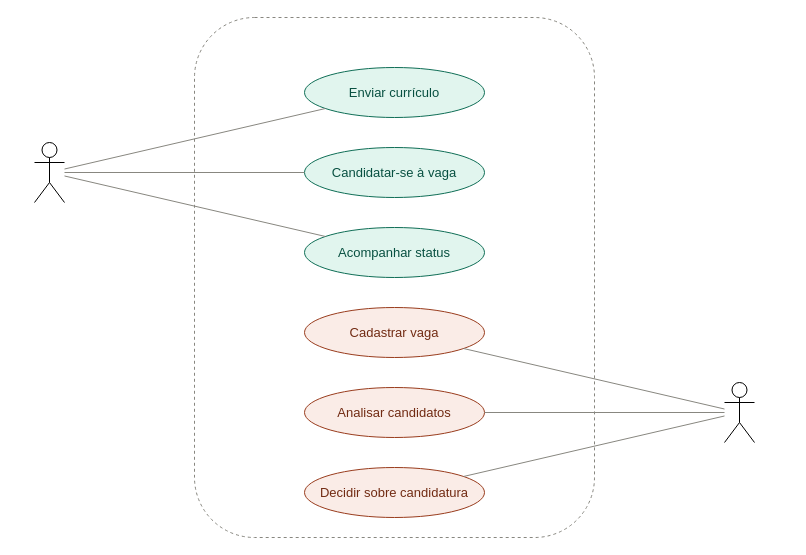
This 806x555 diagram has some shape labels left out. Each missing label, with the box of its shape:
Candidato: (34, 142, 64, 202)
Recrutador / RH: (724, 382, 754, 442)
Sistema de Triagem de Currículos: (194, 16, 594, 538)
